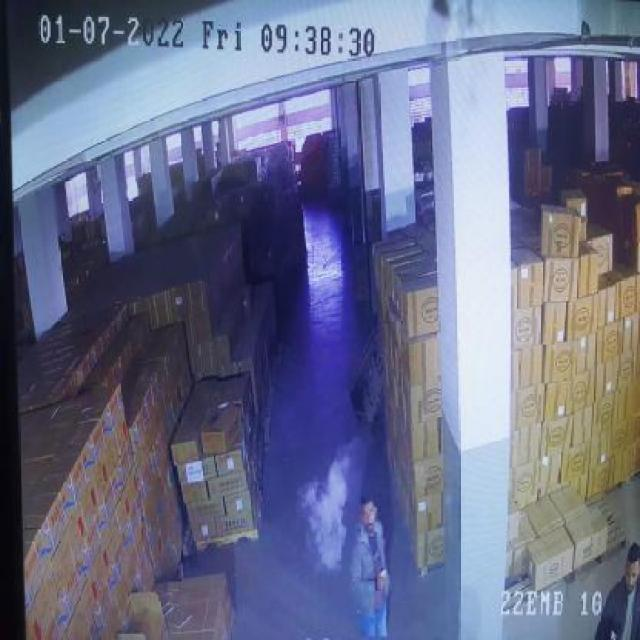fire: (299, 452, 352, 580)
